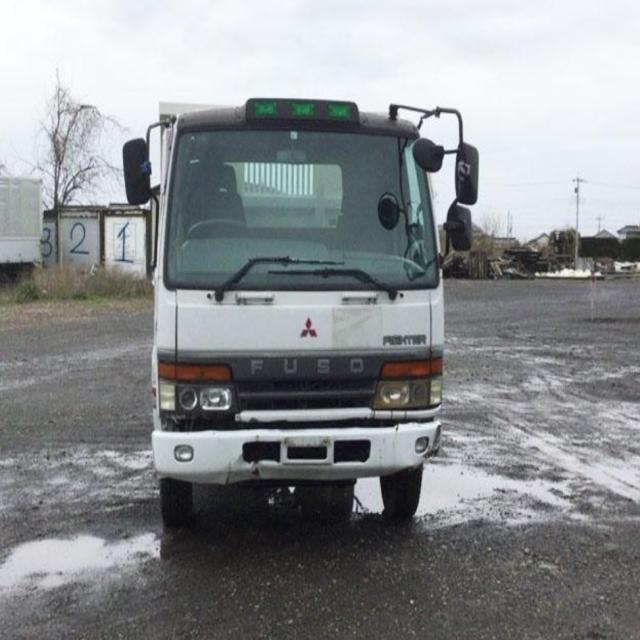truck: (119, 93, 476, 525)
